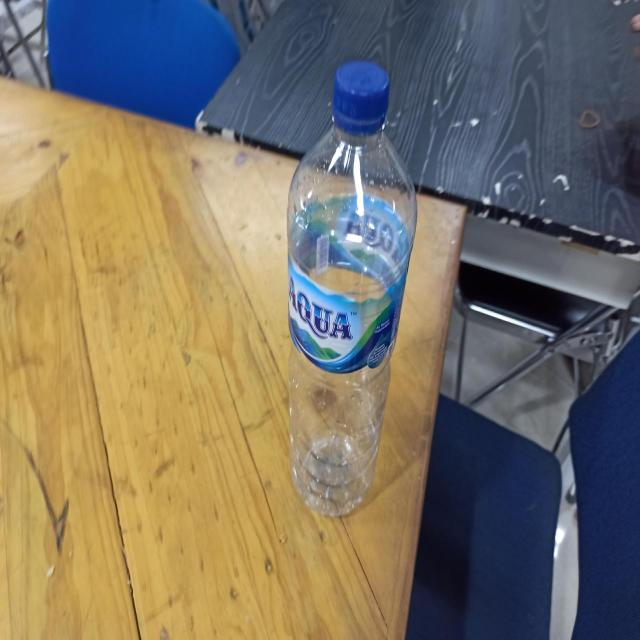BotolPlastik: (284, 59, 418, 517)
